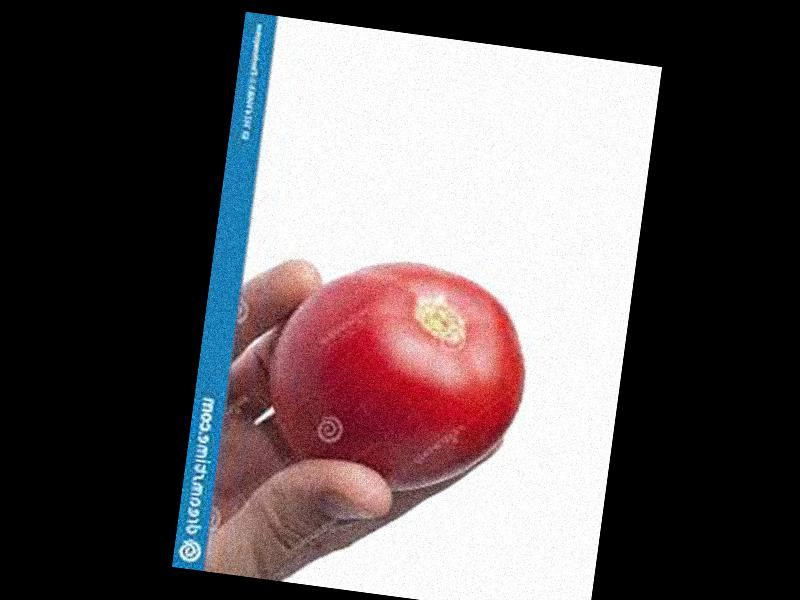Tomato: (257, 247, 537, 506)
